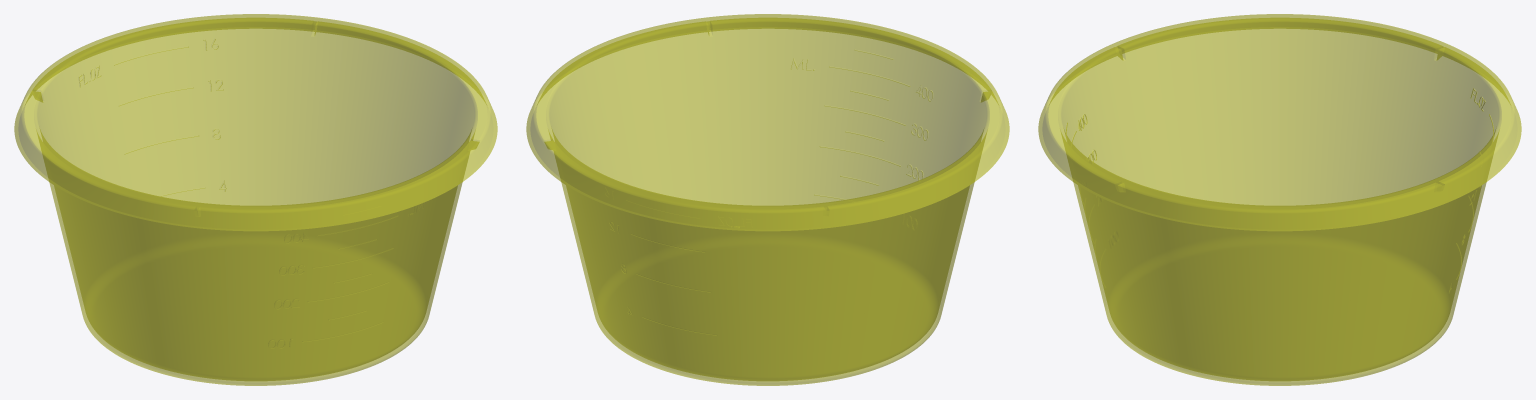
The picture shows the model from 3 angles, left to right: view 1: azimuth 30°, elevation 25°; view 2: azimuth 150°, elevation 25°; view 3: azimuth 270°, elevation 25°; orthographic projection.
Parts seen in each view (by area): view 1: Bols JIE GAO PLASTICS PRODUCTS; view 2: Bols JIE GAO PLASTICS PRODUCTS; view 3: Bols JIE GAO PLASTICS PRODUCTS.
Part boxes in pixels (bbox=[...]): Bols JIE GAO PLASTICS PRODUCTS: bbox=[14, 14, 497, 385]; Bols JIE GAO PLASTICS PRODUCTS: bbox=[526, 14, 1009, 385]; Bols JIE GAO PLASTICS PRODUCTS: bbox=[1038, 14, 1521, 385].
Bounding box in the file's own units: 0.129 × 0.06 × 0.129.
